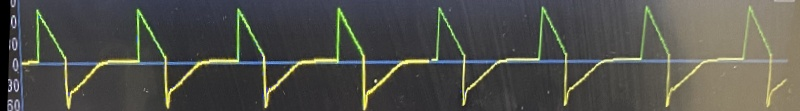normal_flow: (18, 0, 800, 111)
